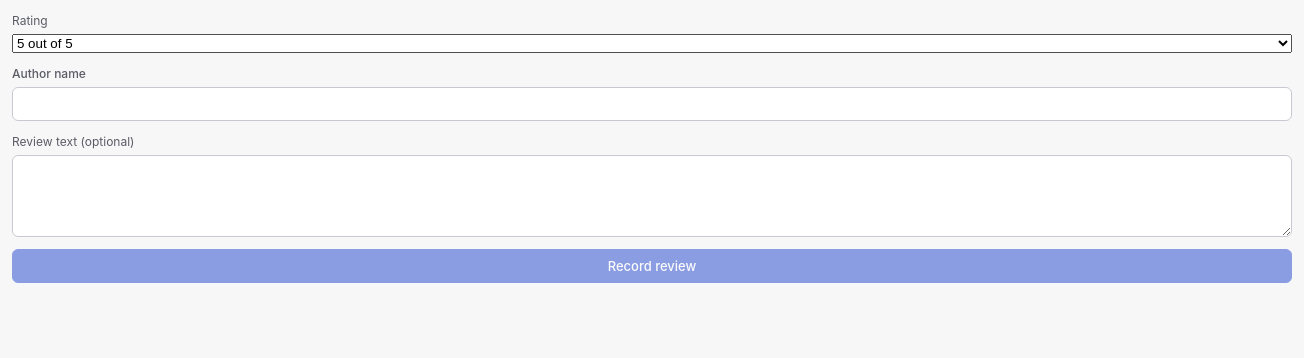
RecordReviewForm › shows the backend's own validation error verbatim
The width and height of the screenshot is (1304, 358).
Type "Jane" into the field labelled "Author name" at (652,104), box left=12, top=87, right=1292, bottom=121
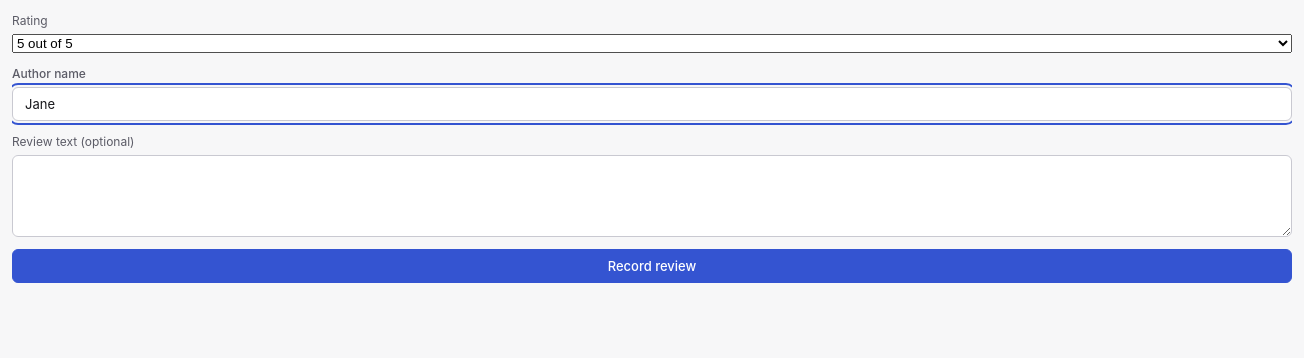
Click the button "Record review" at (652,266), box left=12, top=249, right=1292, bottom=283
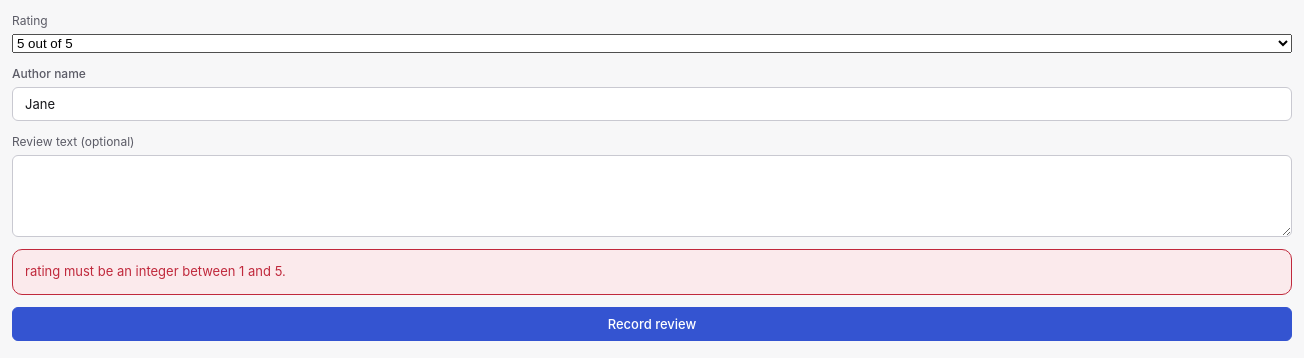
Expected: the text "rating must be an integer between 1 and 5." is shown, left=25, top=263, right=286, bottom=279
